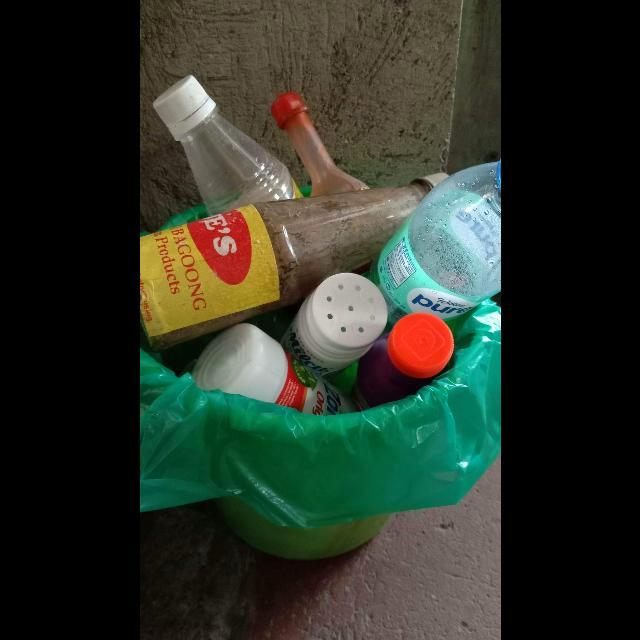glass_bottle: (139, 170, 450, 349)
plastic_bottle: (358, 159, 500, 328), (148, 73, 310, 216)
